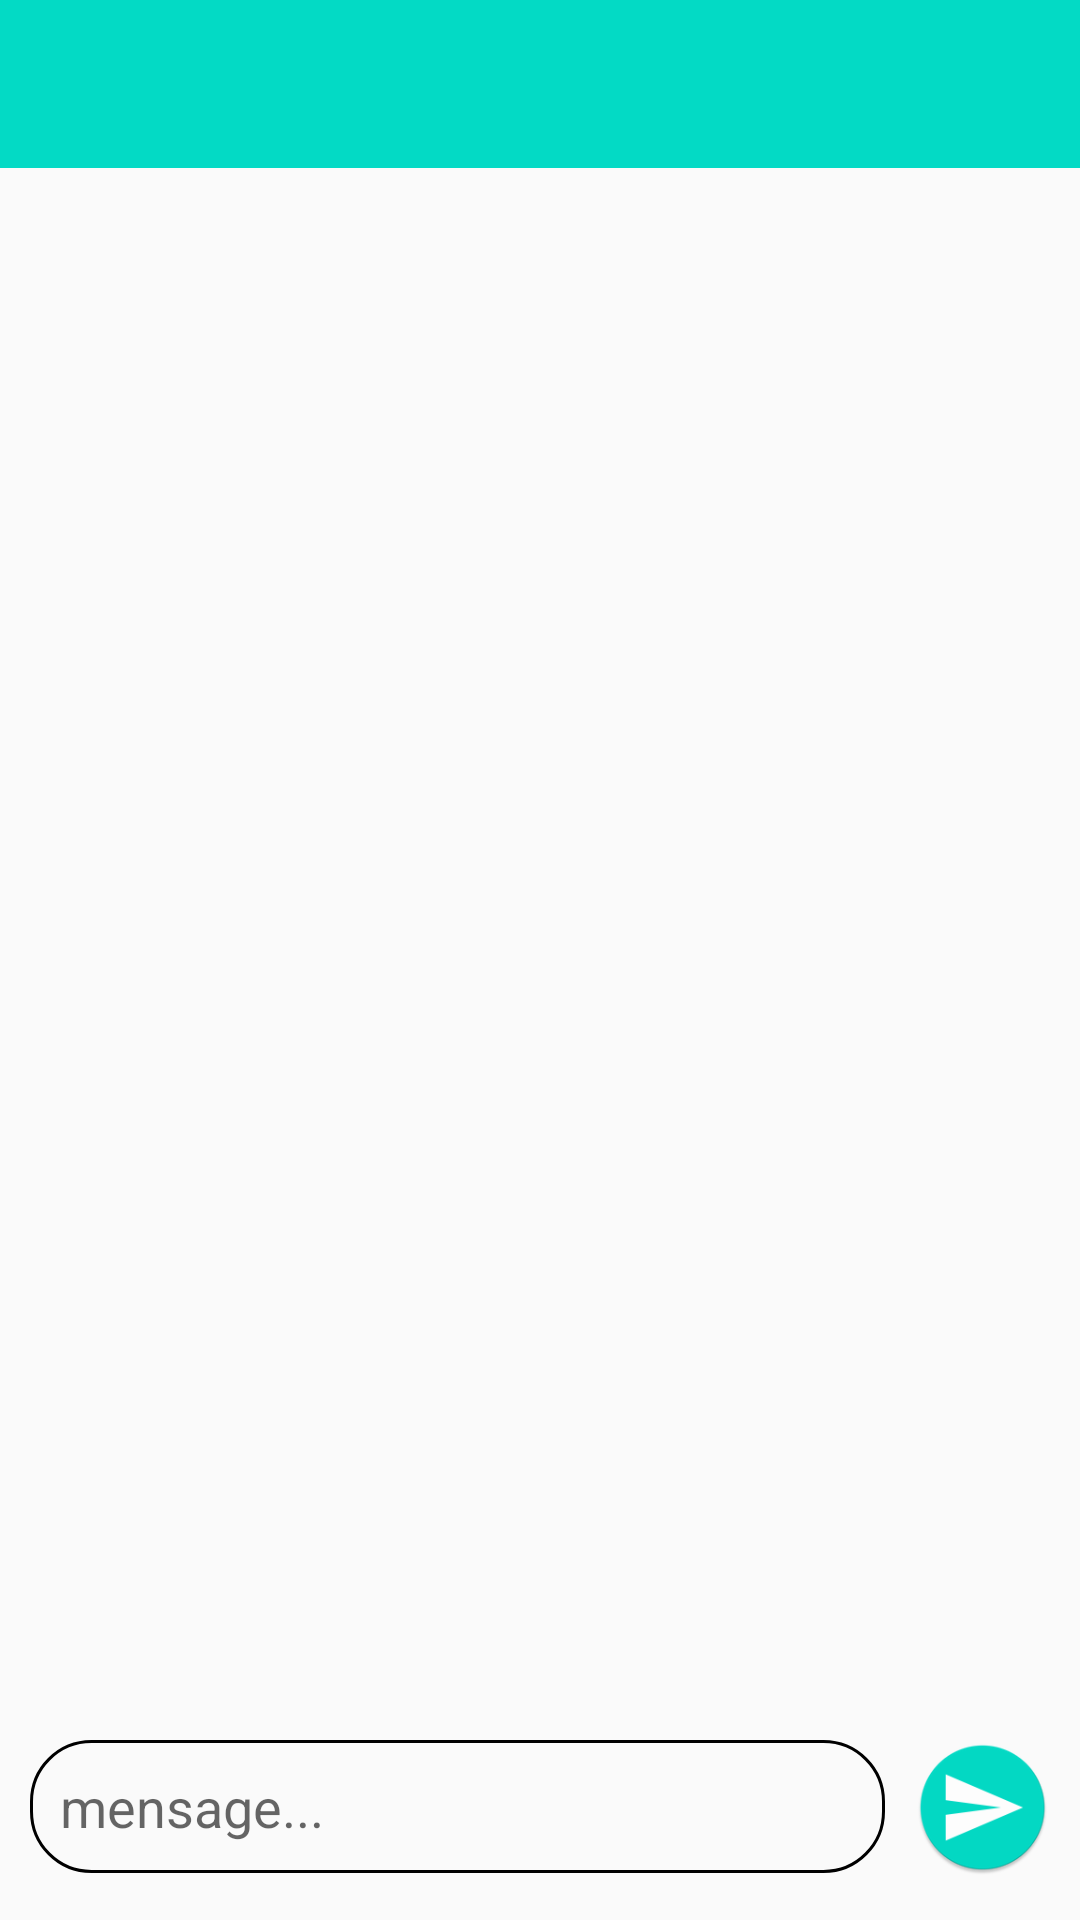

Where icons sit on this 1080x1920 app screen, as BBox(x1, y1, x2, y2):
send: BBox(920, 1745, 1045, 1873)
